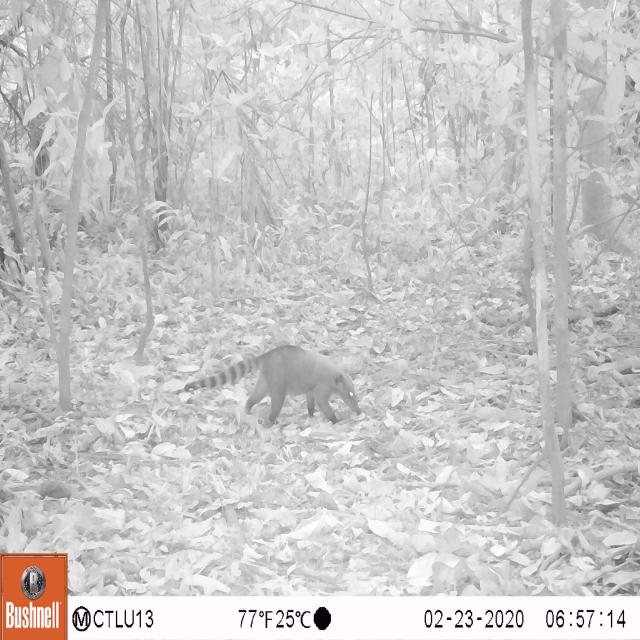South American Coati: (174, 331, 373, 437)
